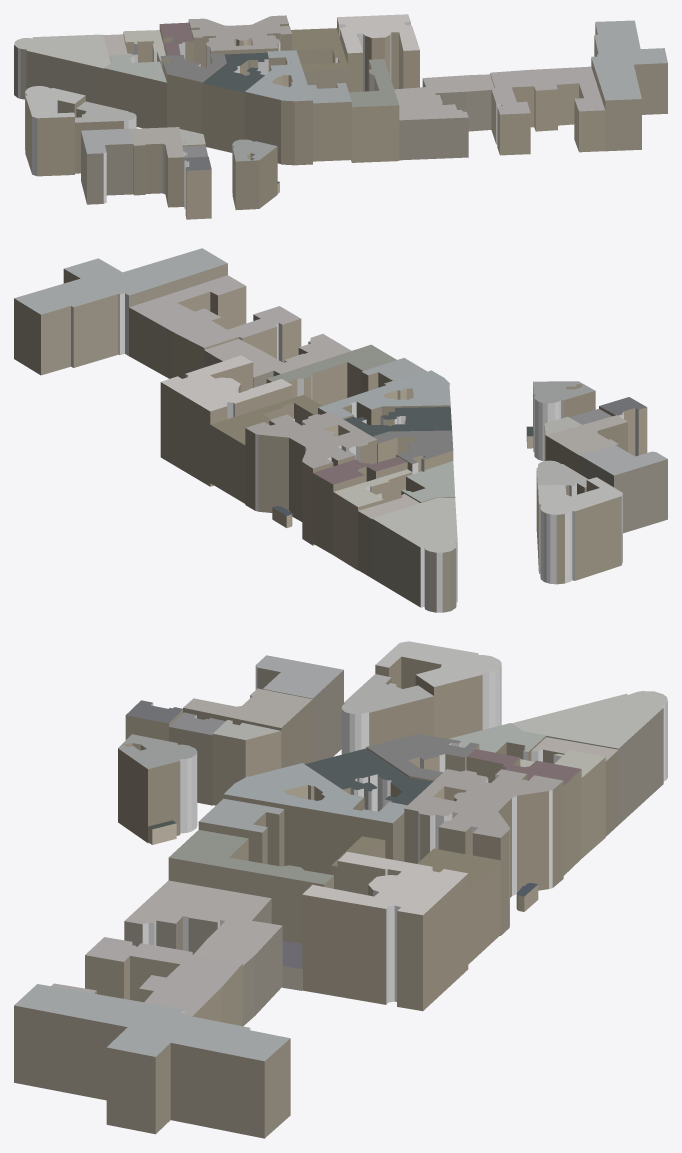
The picture shows the model from 3 angles, top to bottom: view 1: azimuth 30°, elevation 25°; view 2: azimuth 150°, elevation 25°; view 3: azimuth 270°, elevation 25°; orthographic projection. The views are drawn at different scales.
Parts seen in each view (by area): view 1: tuile; view 2: tuile; view 3: tuile.
Boxes of the visible parts, <box> form: tuile: <box>14,14,667,219</box>; tuile: <box>14,248,667,612</box>; tuile: <box>14,641,667,1138</box>.
Size of the model in its own units: 276 by 32.12 by 184.
